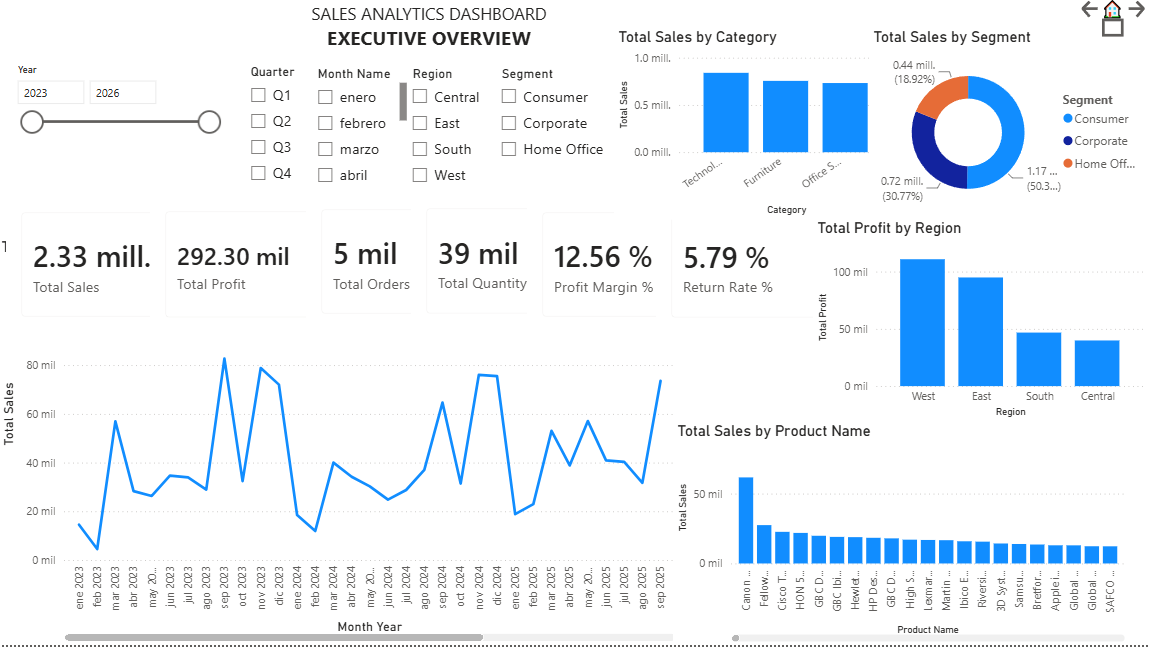

The dashboard page shown, as its layout file describes it:
{"tool":"powerbi","page":{"name":"Executive Dashboard","canvas":[1280,720],"ordinal":1},"visuals":[{"type":"textbox","box":[9.8,0,940.1,68.7],"z":0},{"type":"slicer","fields":{"Values":["Calendar.Year"]},"box":[9.8,68.7,246.7,101.9],"z":1000},{"type":"slicer","fields":{"Values":["Calendar.Quarter"]},"box":[269.4,70,127.4,142],"z":2000},{"type":"lineChart","fields":{"Category":["Calendar.Month Year"],"Y":["Orders.Total Sales"]},"box":[0,267.5,758.4,452.8],"z":3000},{"type":"slicer","fields":{"Values":["Orders.Region"]},"box":[449.4,72,109.9,149.8],"z":4000},{"type":"slicer","fields":{"Values":["Orders.Segment"]},"box":[547.6,72,138.1,149.8],"z":5000},{"type":"cardVisual","fields":{"Data":["Orders.Total Sales"]},"box":[9.8,222.1,211.1,150.9],"z":6000},{"type":"cardVisual","fields":{"Data":["Orders.Total Profit"]},"box":[169.7,221.2,200,152.5],"z":7000},{"type":"cardVisual","fields":{"Data":["Orders.Total Orders"]},"box":[343.6,218.4,211.1,150.9],"z":8000},{"type":"cardVisual","fields":{"Data":["Orders.Total Quantity"]},"box":[460,218.3,161.9,151.2],"z":9000},{"type":"cardVisual","fields":{"Data":["Orders.Profit Margin %"]},"box":[589.1,222.1,193.9,150.9],"z":10000},{"type":"cardVisual","fields":{"Data":["Orders.Return Rate %"]},"box":[732.4,221.8,199.4,151.7],"z":11000},{"type":"slicer","fields":{"Values":["Calendar.Month Name"]},"box":[343.3,72,116.7,149.8],"z":12000},{"type":"clusteredColumnChart","title":"Total Sales by Category","fields":{"Category":["Orders.Category"],"Y":["Orders.Total Sales"]},"box":[685.7,34,316.1,213],"z":13000},{"type":"clusteredColumnChart","title":"Total Profit by Region","fields":{"Category":["Orders.Region"],"Y":["Orders.Total Profit"]},"box":[906.5,247.1,373.5,224.7],"z":14000},{"type":"donutChart","title":"Total Sales by Segment","fields":{"Category":["Orders.Segment"],"Y":["Orders.Total Sales"]},"box":[968.8,34,311.2,213],"z":15000},{"type":"clusteredColumnChart","title":"Total Sales by Product Name","fields":{"Category":["Orders.Product Name"],"Y":["Orders.Total Sales"]},"box":[750.7,471.7,506.9,249.2],"z":16000},{"type":"actionButton","box":[1252,0,28,27],"z":17000},{"type":"actionButton","box":[1201,0,27,27],"z":18000},{"type":"actionButton","title":"🏠","box":[1228,0,24,44],"z":19000}]}

Visuals, with their boxes in screenshot pixels (x1, y1, x2, y2), scaled from the page's 1280x720 canvas onto the 1149x647 screenshot:
textbox: bbox(9, 0, 853, 62)
slicer - Calendar.Year: bbox(9, 62, 230, 153)
slicer - Calendar.Quarter: bbox(242, 63, 356, 191)
lineChart - Calendar.Month Year x Orders.Total Sales: bbox(0, 240, 681, 646)
slicer - Orders.Region: bbox(403, 65, 502, 199)
slicer - Orders.Segment: bbox(492, 65, 616, 199)
cardVisual - Orders.Total Sales: bbox(9, 200, 198, 335)
cardVisual - Orders.Total Profit: bbox(152, 199, 332, 336)
cardVisual - Orders.Total Orders: bbox(308, 196, 498, 332)
cardVisual - Orders.Total Quantity: bbox(413, 196, 558, 332)
cardVisual - Orders.Profit Margin %: bbox(529, 200, 703, 335)
cardVisual - Orders.Return Rate %: bbox(657, 199, 836, 336)
slicer - Calendar.Month Name: bbox(308, 65, 413, 199)
"Total Sales by Category" clusteredColumnChart: bbox(616, 31, 899, 222)
"Total Profit by Region" clusteredColumnChart: bbox(814, 222, 1148, 424)
"Total Sales by Segment" donutChart: bbox(870, 31, 1148, 222)
"Total Sales by Product Name" clusteredColumnChart: bbox(674, 424, 1129, 646)
actionButton: bbox(1124, 0, 1148, 24)
actionButton: bbox(1078, 0, 1102, 24)
"🏠" actionButton: bbox(1102, 0, 1124, 40)
